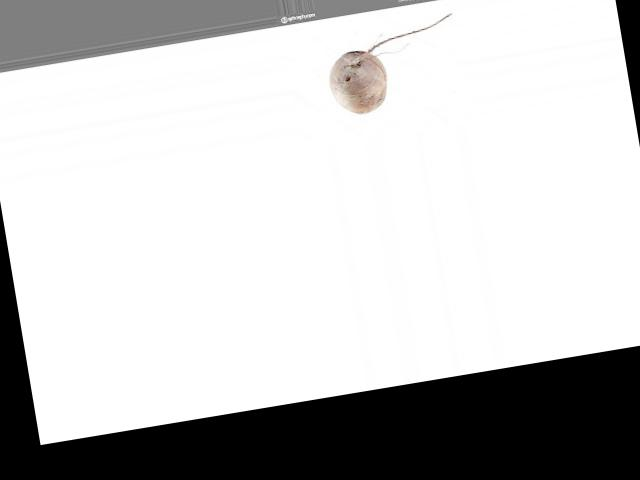beet: (322, 12, 466, 117)
